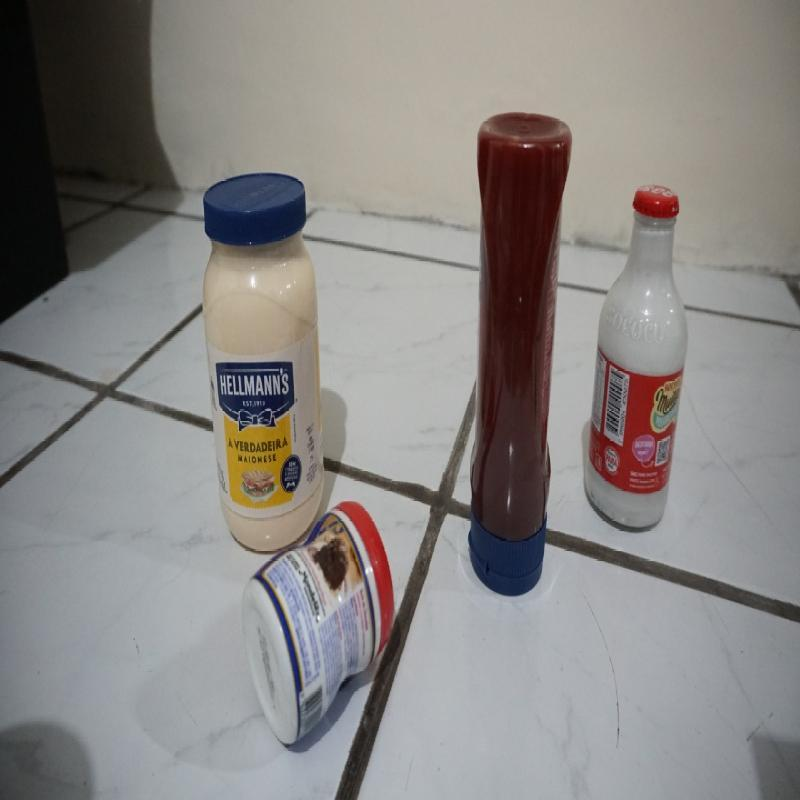Coconut Milk: (585, 177, 692, 529)
Ketchup: (472, 113, 561, 598)
Mayonnaise: (199, 167, 320, 526)
Yeast: (239, 506, 403, 745)
